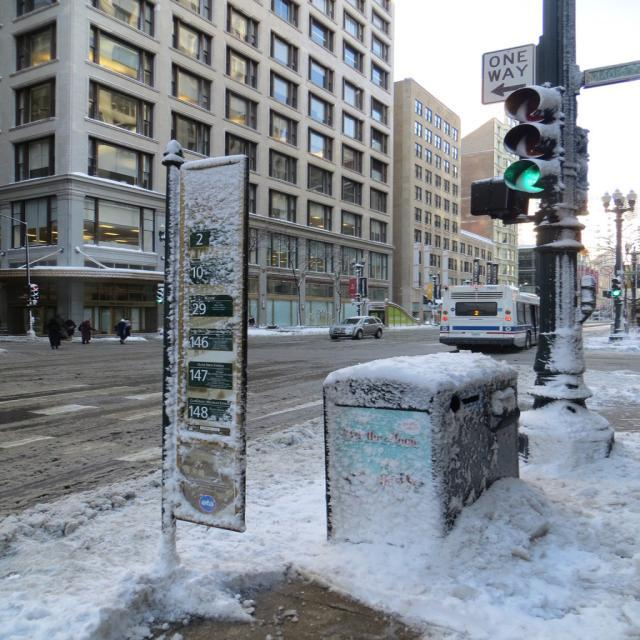traffic light: (502, 85, 561, 198)
